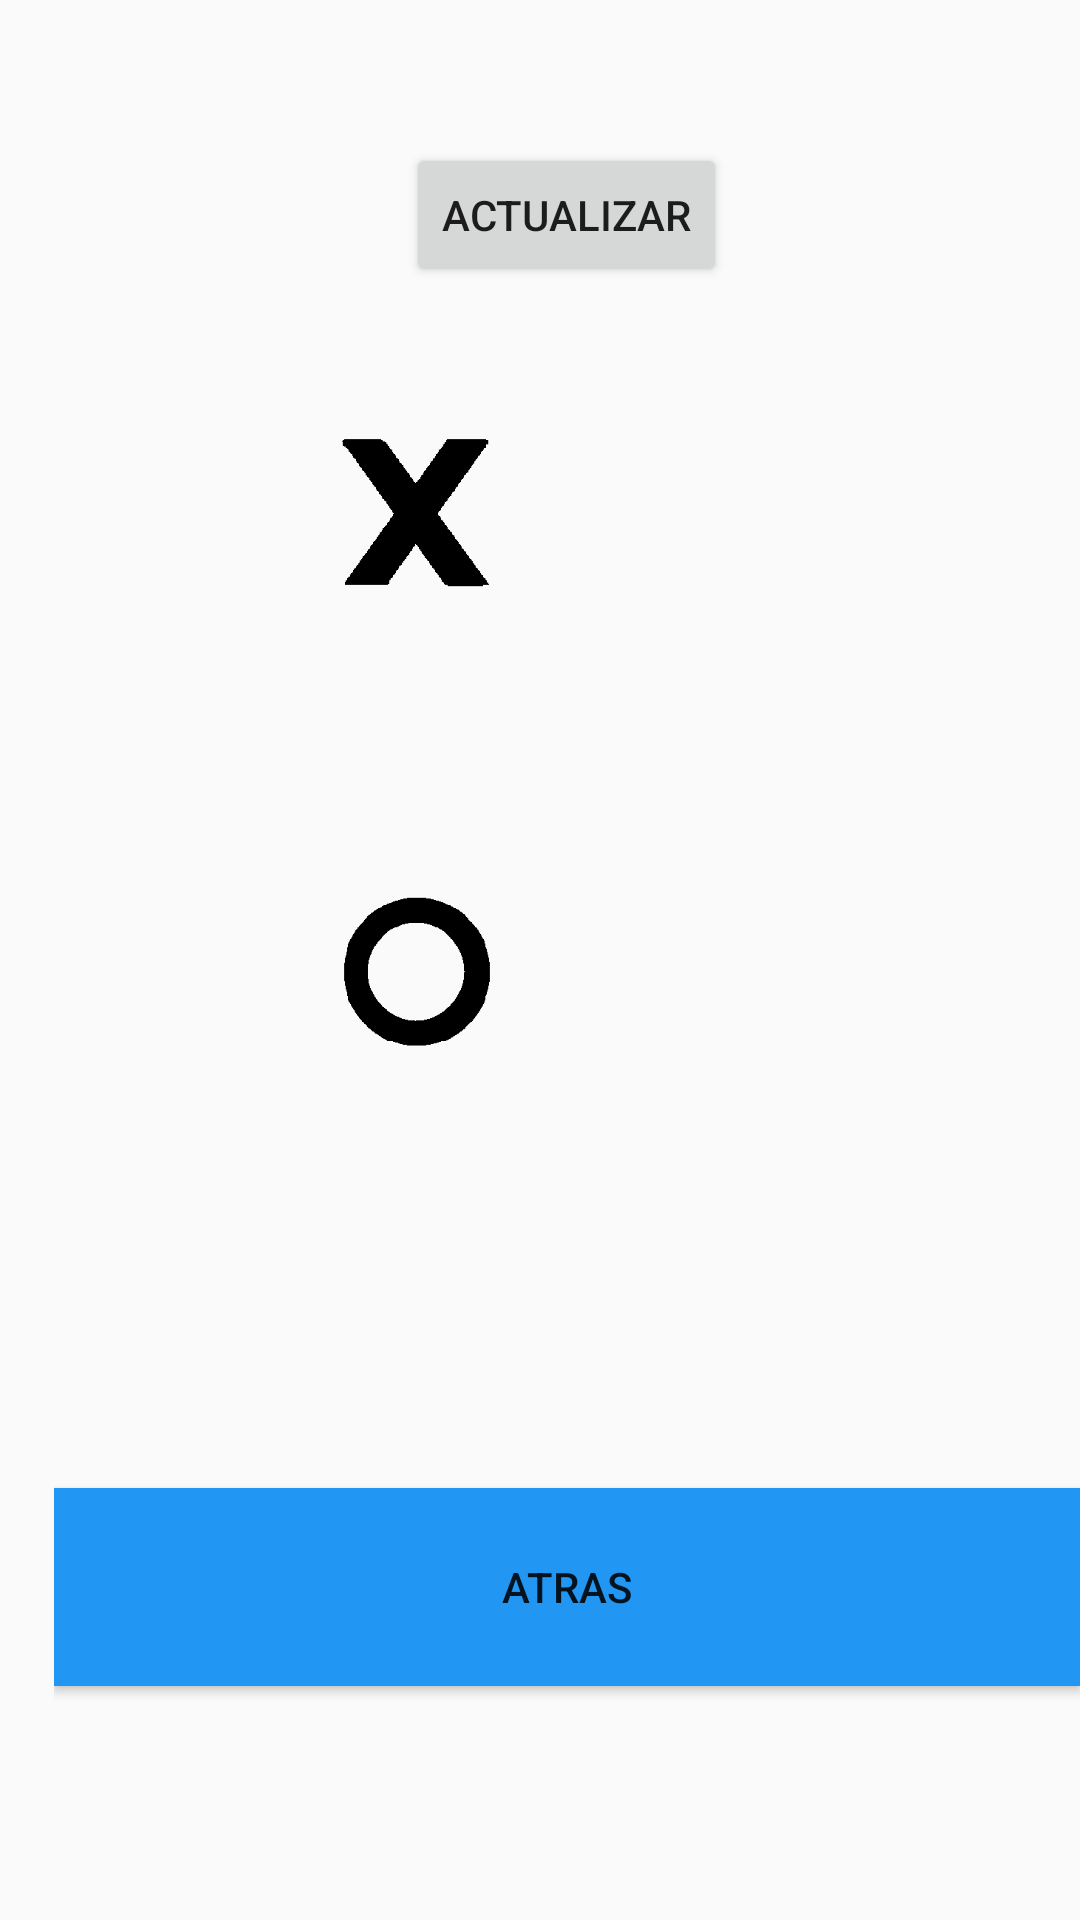

Icon click points for this 1080px x 1920px phone screenshot, format [x,y]:
circulo: [417,971]
equis: [415,513]
